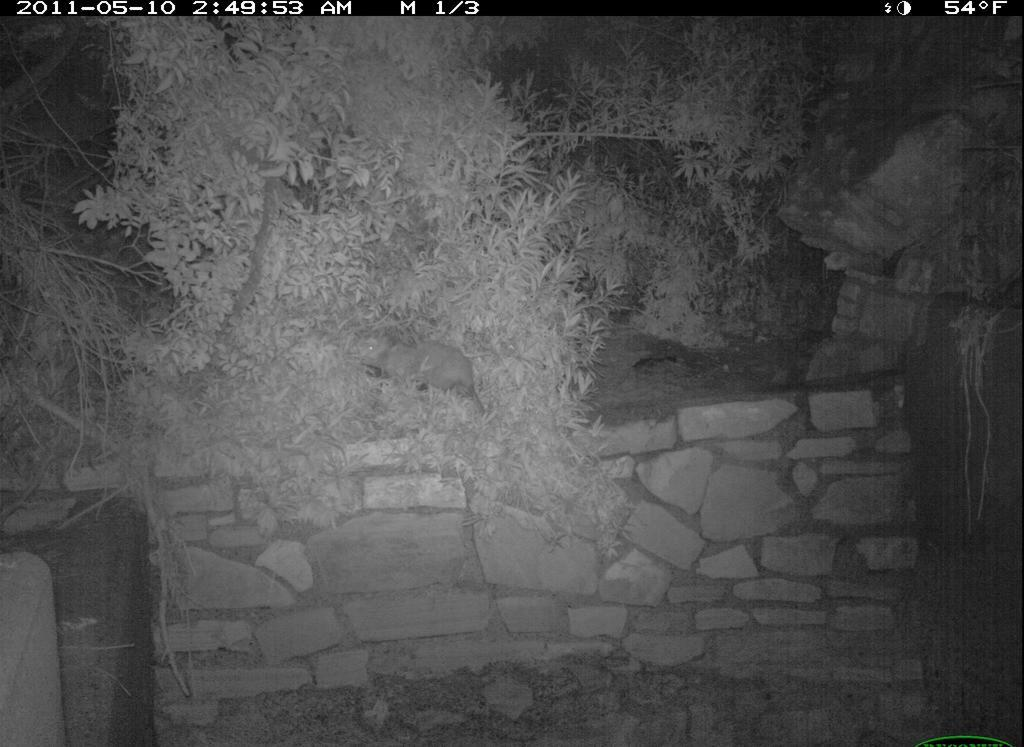opossum: (347, 324, 500, 427)
